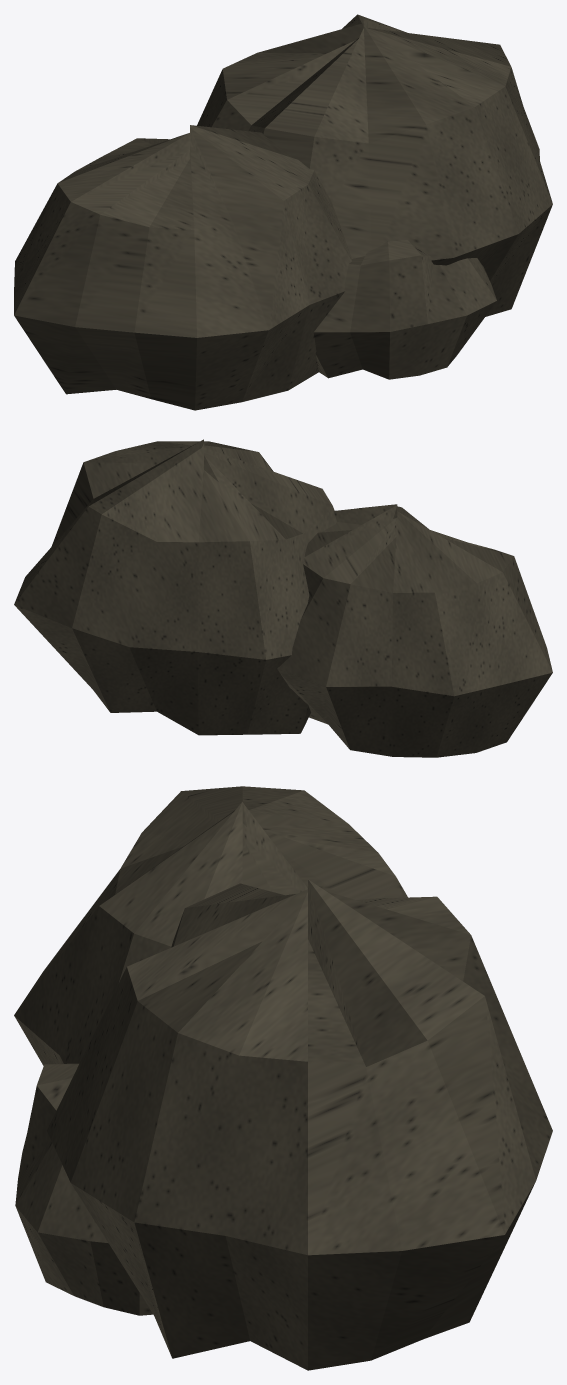
The model's file is PROP-844848DA7F11_lod0.glb.
3 views of the same model, one above another, from view 1: azimuth 30°, elevation 25°; view 2: azimuth 150°, elevation 25°; view 3: azimuth 270°, elevation 25° (orthographic). The views are drawn at different scales.
Parts seen in each view (by area): view 1: rock.006; view 2: rock.006; view 3: rock.006.
Boxes of the visible parts, x1,y1,x2,y2 form: rock.006: (14,14,552,410); rock.006: (14,439,552,757); rock.006: (14,786,552,1370).
Size of the model in its own units: 1.95 by 0.9545 by 1.14.
Materials: 1 (1 with a texture image).
